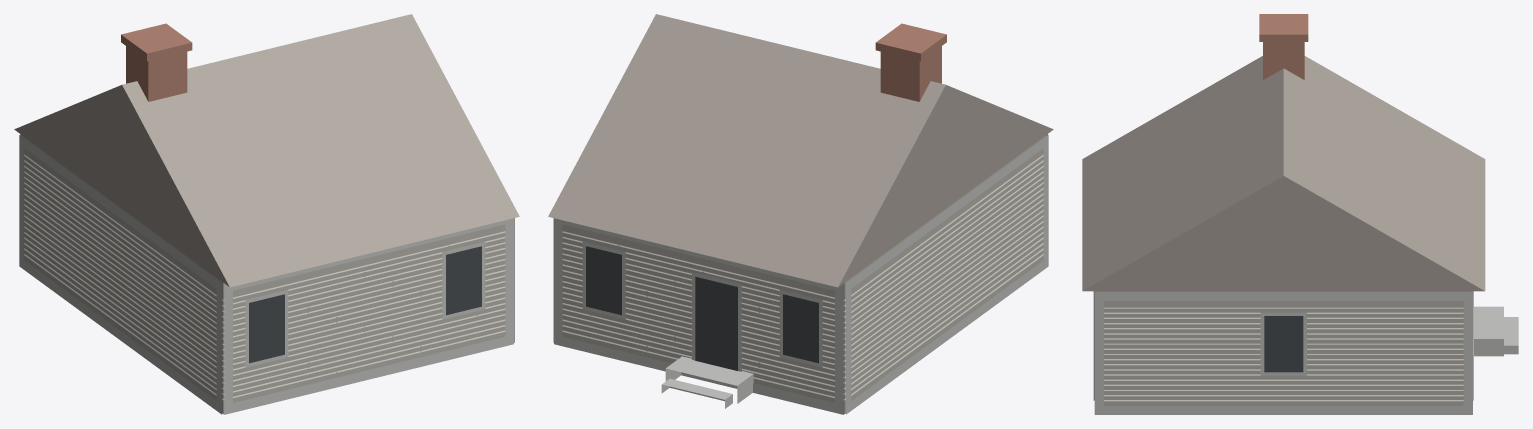
The model's file is recon_1835_blk_randolph_market_d4_03__inferred_1835.glb.
3 renders of one model, left to right at view 1: azimuth 30°, elevation 25°; view 2: azimuth 150°, elevation 25°; view 3: azimuth 270°, elevation 25°, orthographic. The views are drawn at different scales.
Parts seen in each view (by area): view 1: recon_1835_blk_randolph_market_d4_03__inferred_1835; view 2: recon_1835_blk_randolph_market_d4_03__inferred_1835; view 3: recon_1835_blk_randolph_market_d4_03__inferred_1835.
Part boxes in pixels (left/top/right/bottom): recon_1835_blk_randolph_market_d4_03__inferred_1835: left=14, top=14, right=519, bottom=414; recon_1835_blk_randolph_market_d4_03__inferred_1835: left=548, top=14, right=1053, bottom=414; recon_1835_blk_randolph_market_d4_03__inferred_1835: left=1082, top=14, right=1518, bottom=414.
Size of the model in its own units: 6.36 by 6.06 by 8.77.
